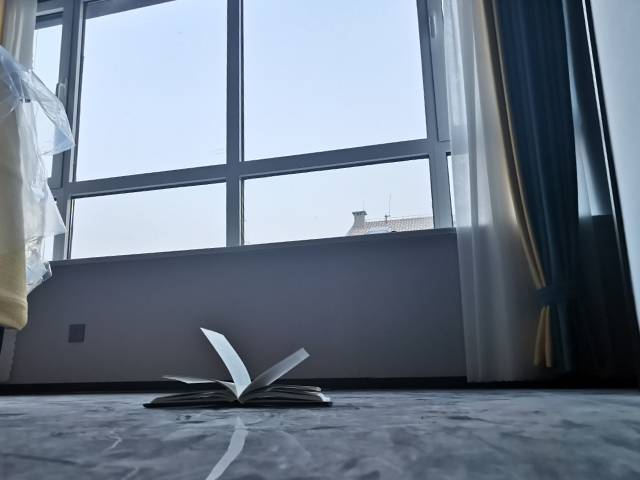book: (140, 326, 335, 410)
curtain: (442, 1, 593, 387)
